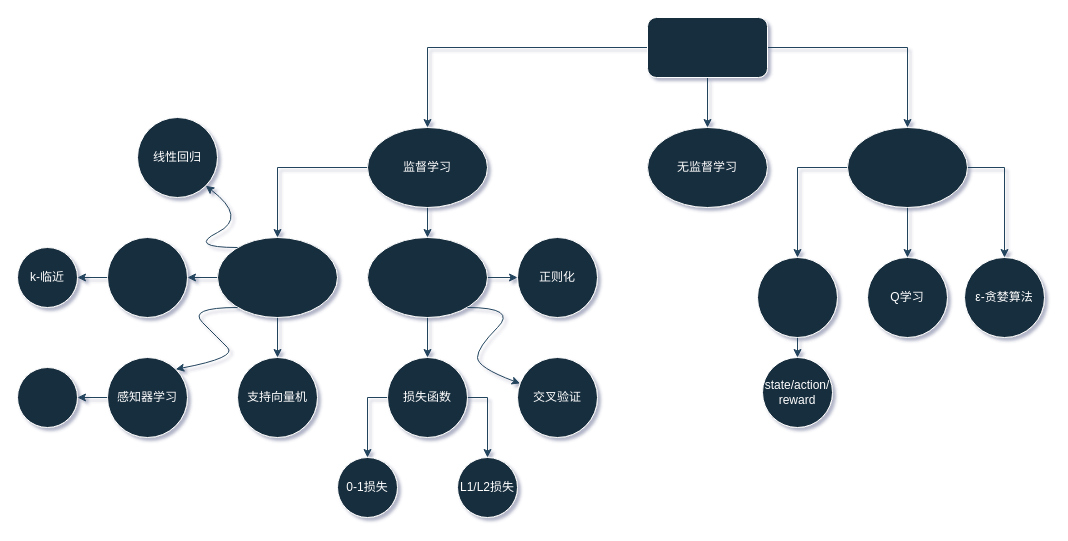
Image size: 1068x541. Some labels were removed from this diagram. Each missing label, with the centre of its shape:
关键组件: [427,277]
分类问题: [277,277]
强化学习: [907,167]
最近邻分类: [147,277]
机器学习: [707,47]
线性决策: [47,397]
马尔科夫决策: [797,297]
